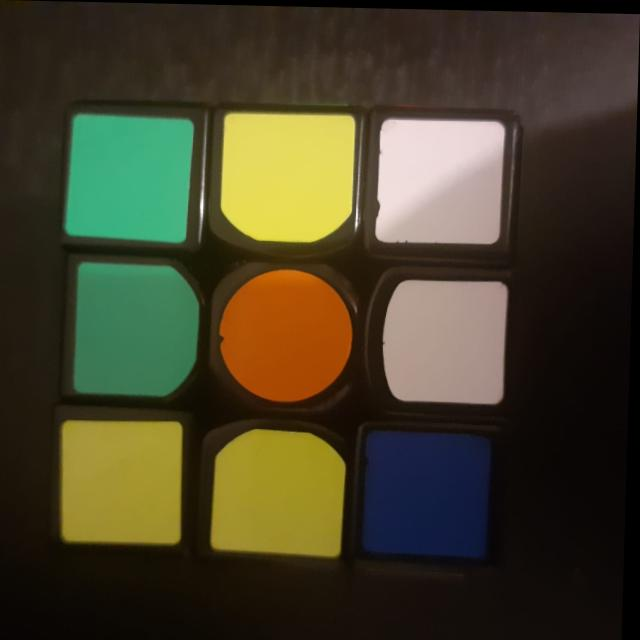Blue: (363, 422, 503, 561)
Green: (66, 255, 211, 410), (61, 103, 209, 250)
Orange: (214, 259, 361, 413)
White: (366, 265, 516, 415), (370, 110, 518, 258)
Yellow: (213, 108, 367, 256), (203, 416, 356, 562), (56, 413, 196, 550)
